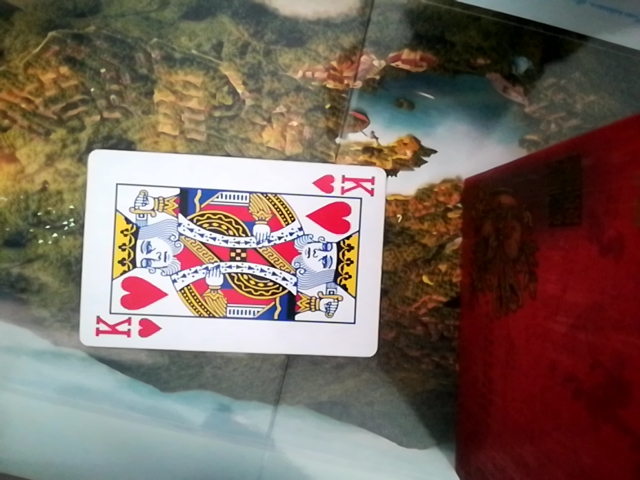hx k: (72, 160, 384, 361)
